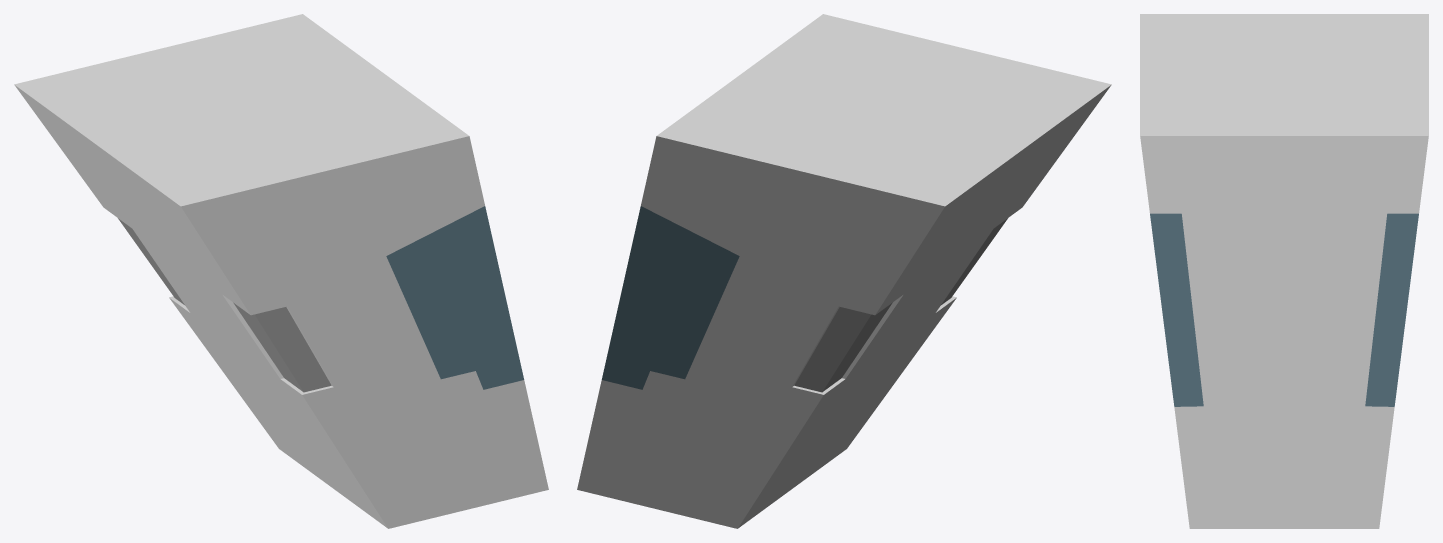
Rendered from space_station_007.fbx.
3 renders of one model, left to right at view 1: azimuth 30°, elevation 25°; view 2: azimuth 150°, elevation 25°; view 3: azimuth 270°, elevation 25°, orthographic. The views are drawn at different scales.
Visible parts, largest first — view 1: space_station_007; view 2: space_station_007; view 3: space_station_007.
Boxes of the visible parts, left/top/right/bottom form: space_station_007: left=14, top=14, right=548, bottom=528; space_station_007: left=577, top=14, right=1111, bottom=528; space_station_007: left=1140, top=14, right=1428, bottom=528.
Size of the model in its own units: 1375 by 1001 by 1329.
